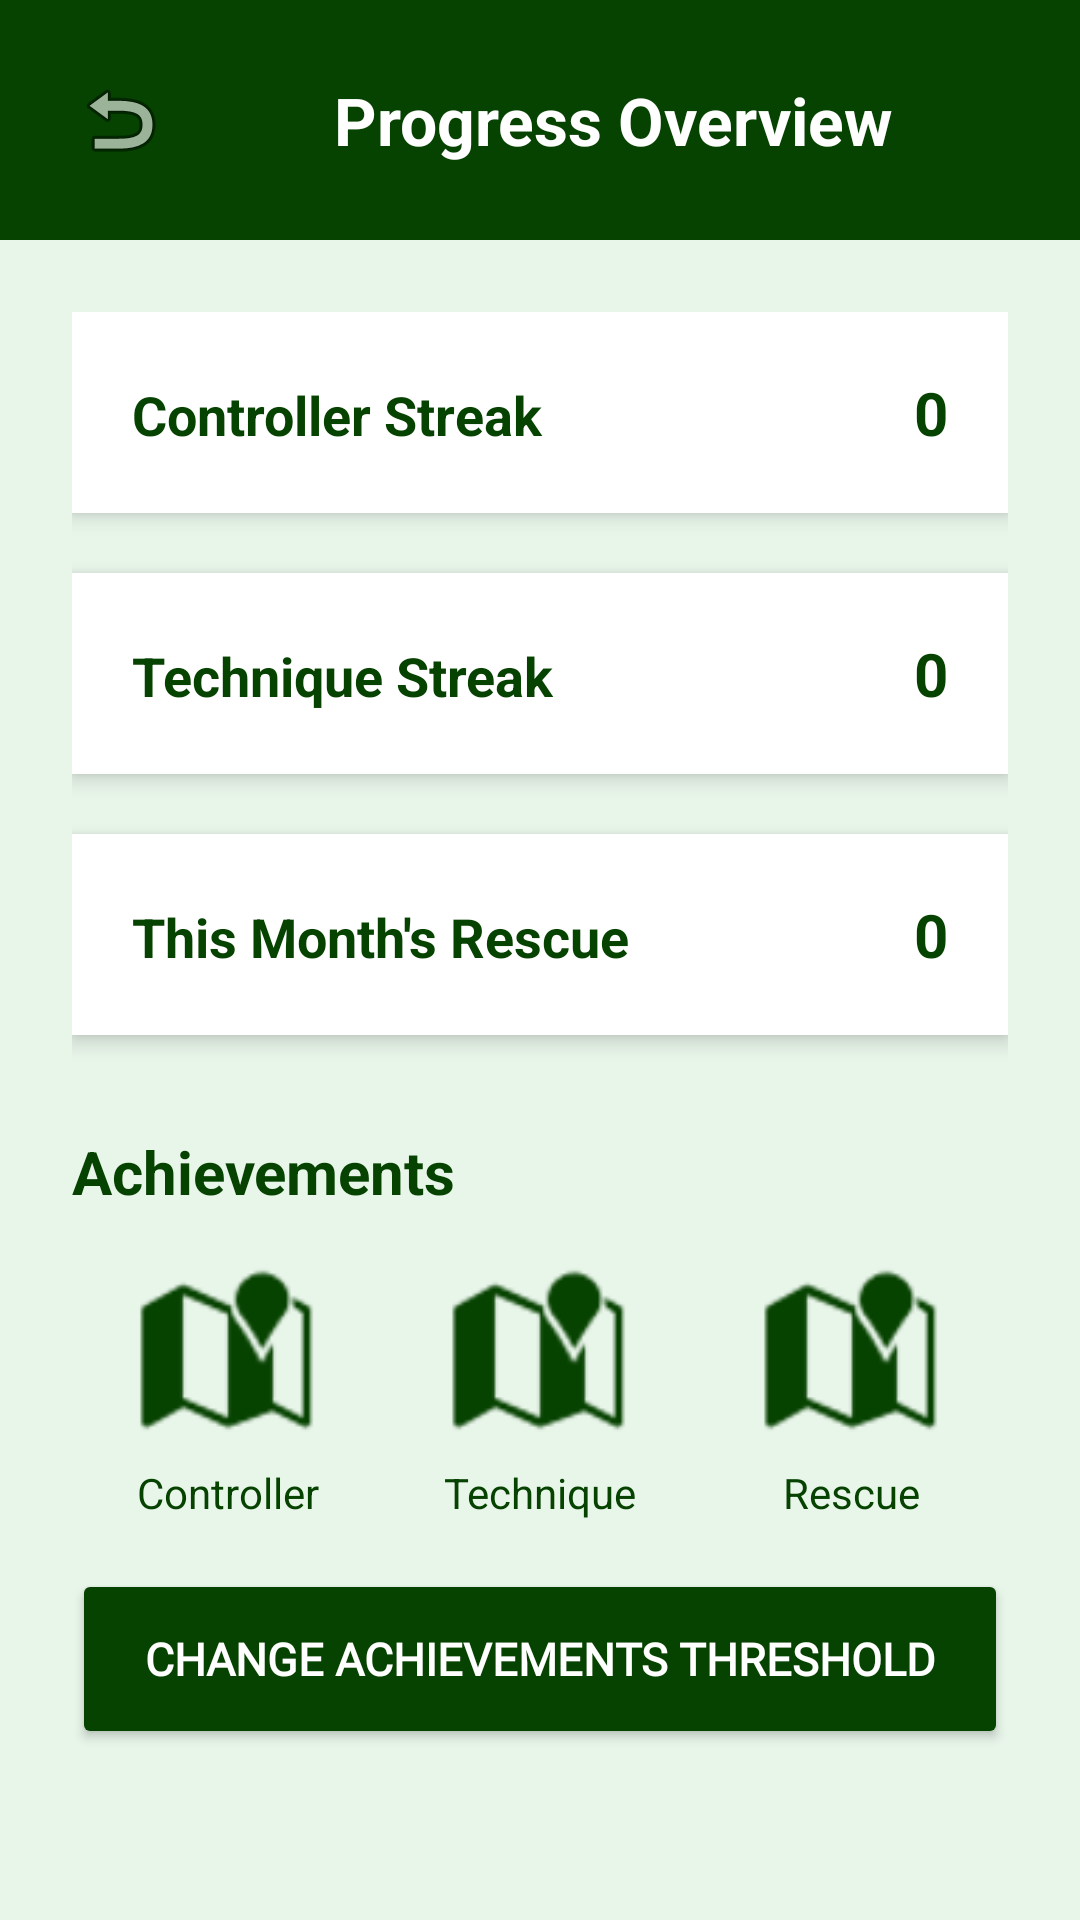

Icon click points for this 1080px x 1920px phone screenshot, format (x=x, y=y):
Back: (x=121, y=120)
map: (x=226, y=1350), (x=538, y=1350), (x=850, y=1350)
